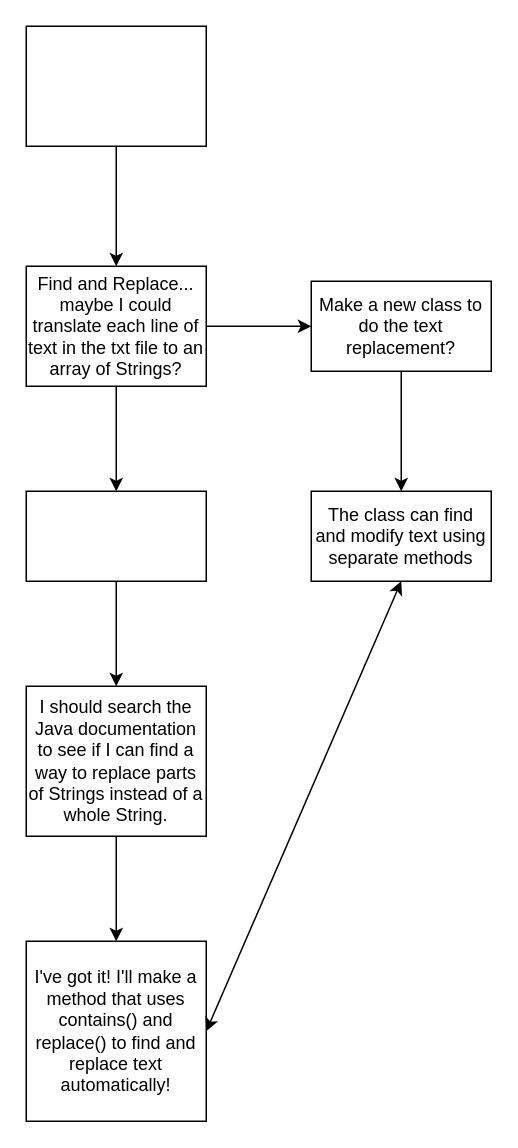
Image size: 518x1148. Some labels were removed from this diagram. The shapes that lost their labels are listed below. From the top down, each one's box as (x1, y1, x2, y2) in pixels, then its label:
(25, 25, 206, 146): Task: Make a program that finds and replaces Strings, or parts of Strings.
(25, 490, 206, 581): I could see if I can use contains() as a part of the method.
